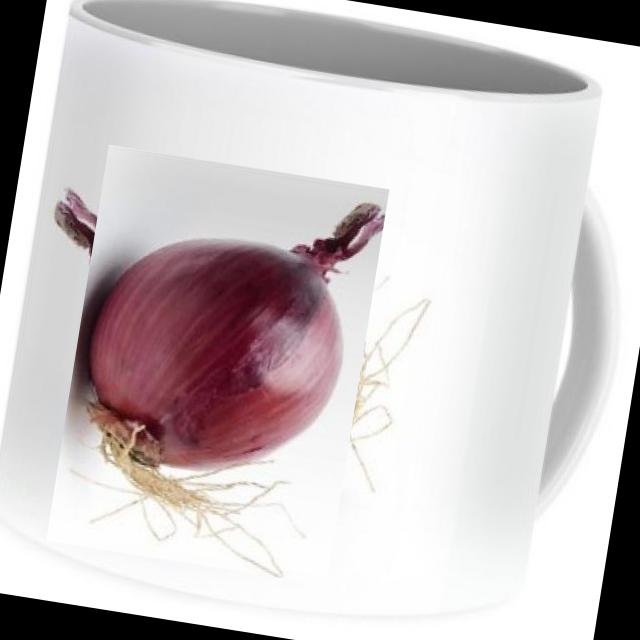Onion: (21, 168, 414, 560)
